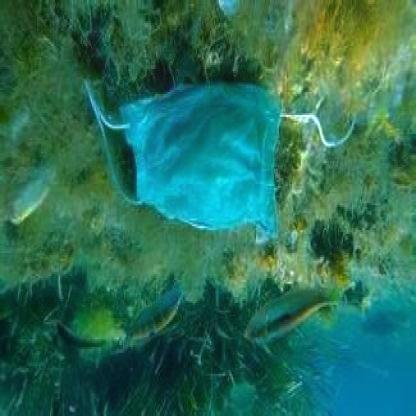Mask: (76, 67, 358, 244)
